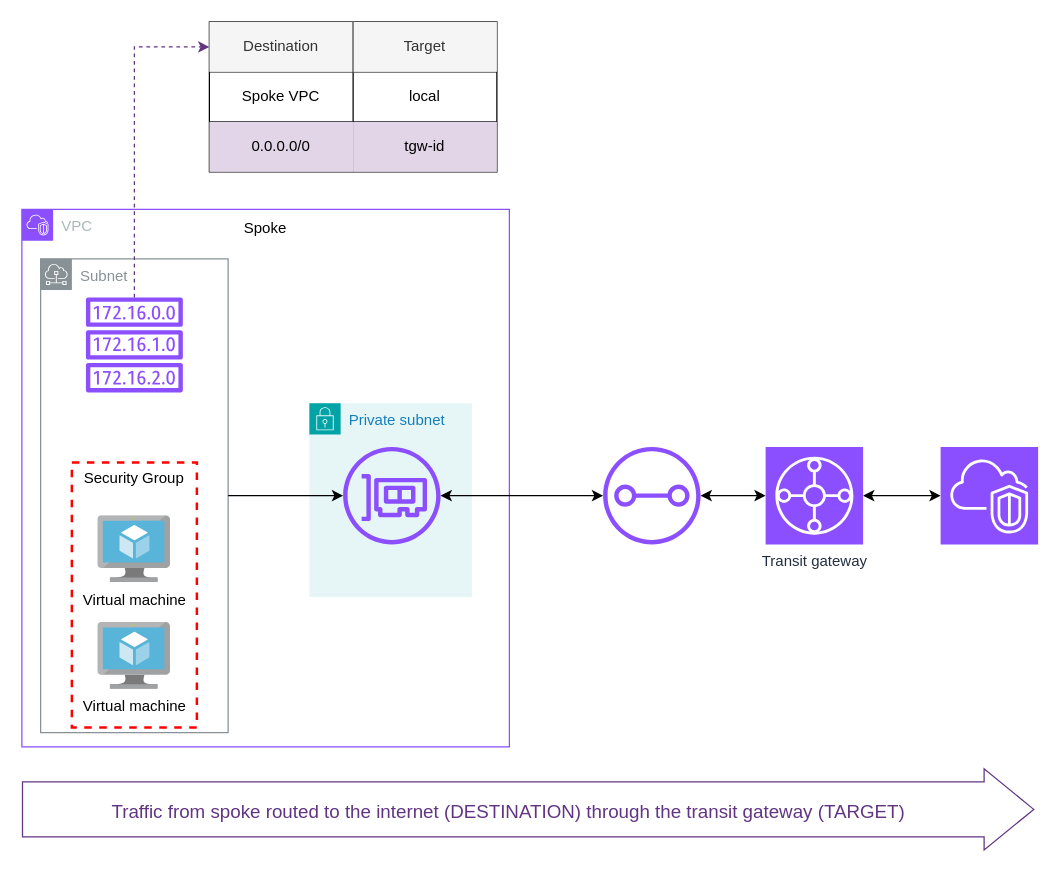
This 1060x873 diagram has some shape labels left out. Each missing label, with the centre of its shape:
"Hub VPC" goes at (988,495).
"Route table (to transit gateway)" goes at (133,344).
"Spoke transit gateway attachment" goes at (651,495).
"Transit gateway network interface" goes at (391,495).
